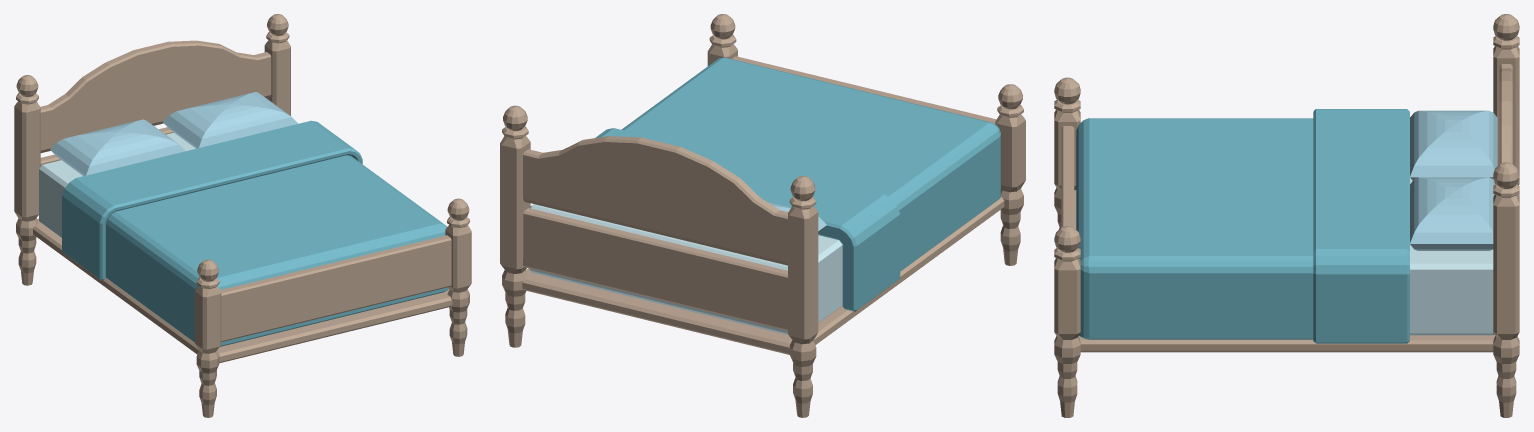
The model's file is Prop_Bedroom_Bed_Queen.glb.
3 renders of one model, left to right at view 1: azimuth 30°, elevation 25°; view 2: azimuth 150°, elevation 25°; view 3: azimuth 270°, elevation 25°, orthographic. The views are drawn at different scales.
Visible parts, largest first — view 1: Prop_Bedroom_Bed_Queen; view 2: Prop_Bedroom_Bed_Queen; view 3: Prop_Bedroom_Bed_Queen.
Part boxes in pixels (x1,y1,x2,y2): Prop_Bedroom_Bed_Queen: [14, 14, 471, 417]; Prop_Bedroom_Bed_Queen: [500, 14, 1025, 417]; Prop_Bedroom_Bed_Queen: [1054, 14, 1519, 417].
Size of the model in its own units: 2.15 by 1.58 by 2.65.
